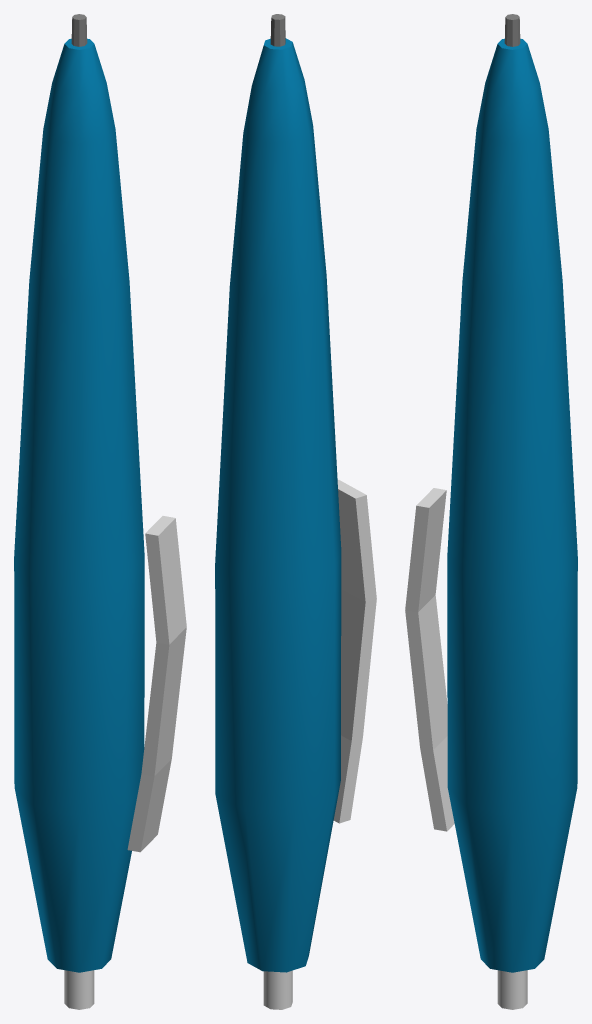
Rendered from Pen.fbx.
3 renders of one model, left to right at view 1: azimuth 90°, elevation 25°; view 2: azimuth 150°, elevation 25°; view 3: azimuth 270°, elevation 25°, orthographic.
Parts seen in each view (by area): view 1: Pen; view 2: Pen; view 3: Pen.
Part boxes in pixels (x1,y1,x2,y2): Pen: (14, 14, 186, 1009); Pen: (215, 14, 376, 1009); Pen: (405, 14, 577, 1009).
Bounding box in the file's own units: 1.55 × 12.96 × 2.06.
